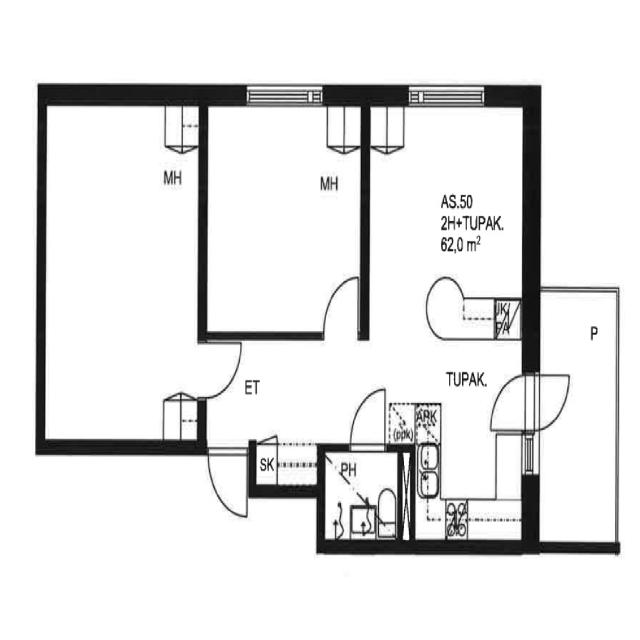door: (486, 372, 560, 434), (316, 268, 364, 346), (204, 441, 250, 522), (344, 380, 393, 456), (197, 332, 250, 402), (421, 272, 465, 338)
window: (401, 75, 492, 114), (240, 78, 328, 112), (519, 431, 538, 480)
zone: (42, 100, 206, 449), (202, 99, 366, 340), (363, 101, 528, 333), (405, 315, 528, 555), (532, 294, 619, 547), (322, 448, 406, 544)
